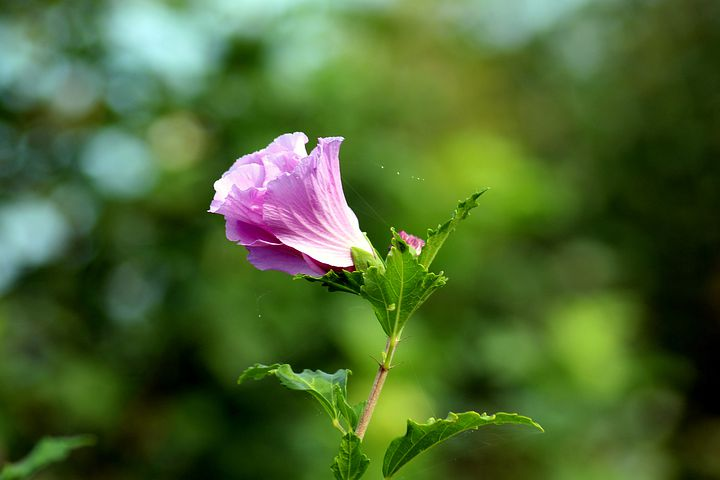Hibiscus: (193, 108, 447, 341)
